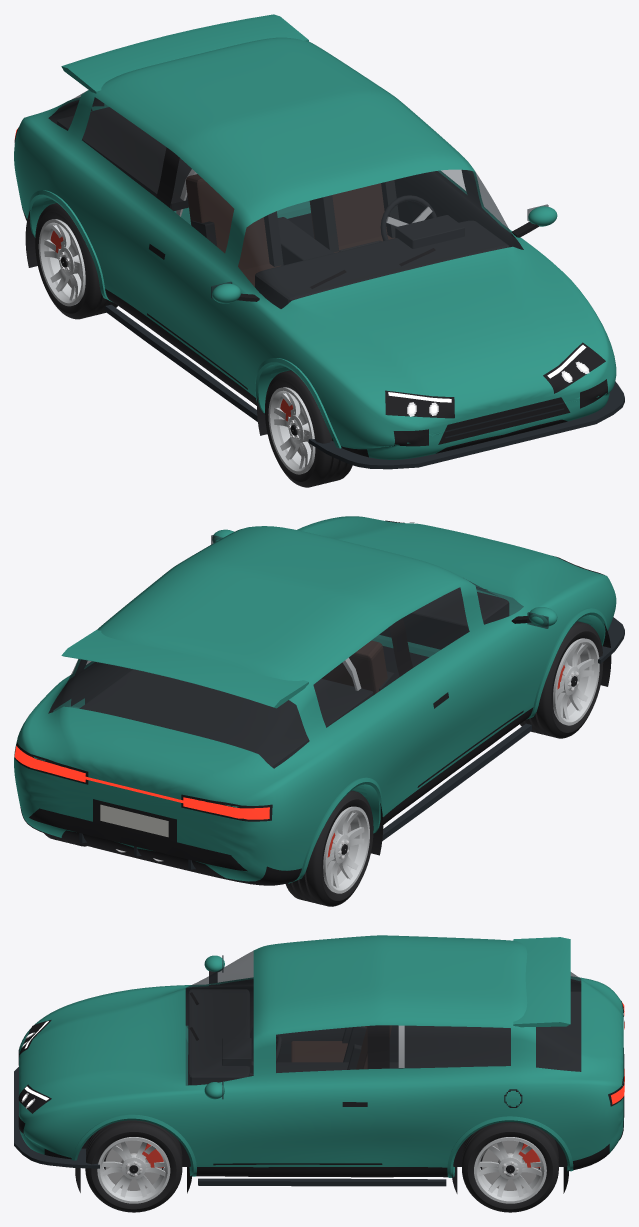
The model's file is car_vector_gp.glb.
The picture shows the model from 3 angles, top to bottom: view 1: azimuth 30°, elevation 25°; view 2: azimuth 150°, elevation 25°; view 3: azimuth 270°, elevation 25°; orthographic projection. The views are drawn at different scales.
Visible parts, largest first — view 1: Body, WheelMesh_Wheel_Front_R, WheelMesh_Wheel_Rear_R; view 2: Body, WheelMesh_Wheel_Rear_R, WheelMesh_Wheel_Front_R; view 3: Body, WheelMesh_Wheel_Front_L, WheelMesh_Wheel_Rear_L.
Part boxes in pixels (x1,y1,x2,y2): Body: (14, 14, 624, 469); WheelMesh_Wheel_Front_R: (265, 370, 352, 487); WheelMesh_Wheel_Rear_R: (35, 203, 117, 319); Body: (14, 516, 624, 885); WheelMesh_Wheel_Rear_R: (285, 790, 373, 906); WheelMesh_Wheel_Front_R: (520, 621, 603, 738); Body: (14, 935, 624, 1193); WheelMesh_Wheel_Front_L: (85, 1120, 182, 1212); WheelMesh_Wheel_Rear_L: (462, 1122, 558, 1212).
Size of the model in its own units: 2.2 by 1.42 by 4.15.
